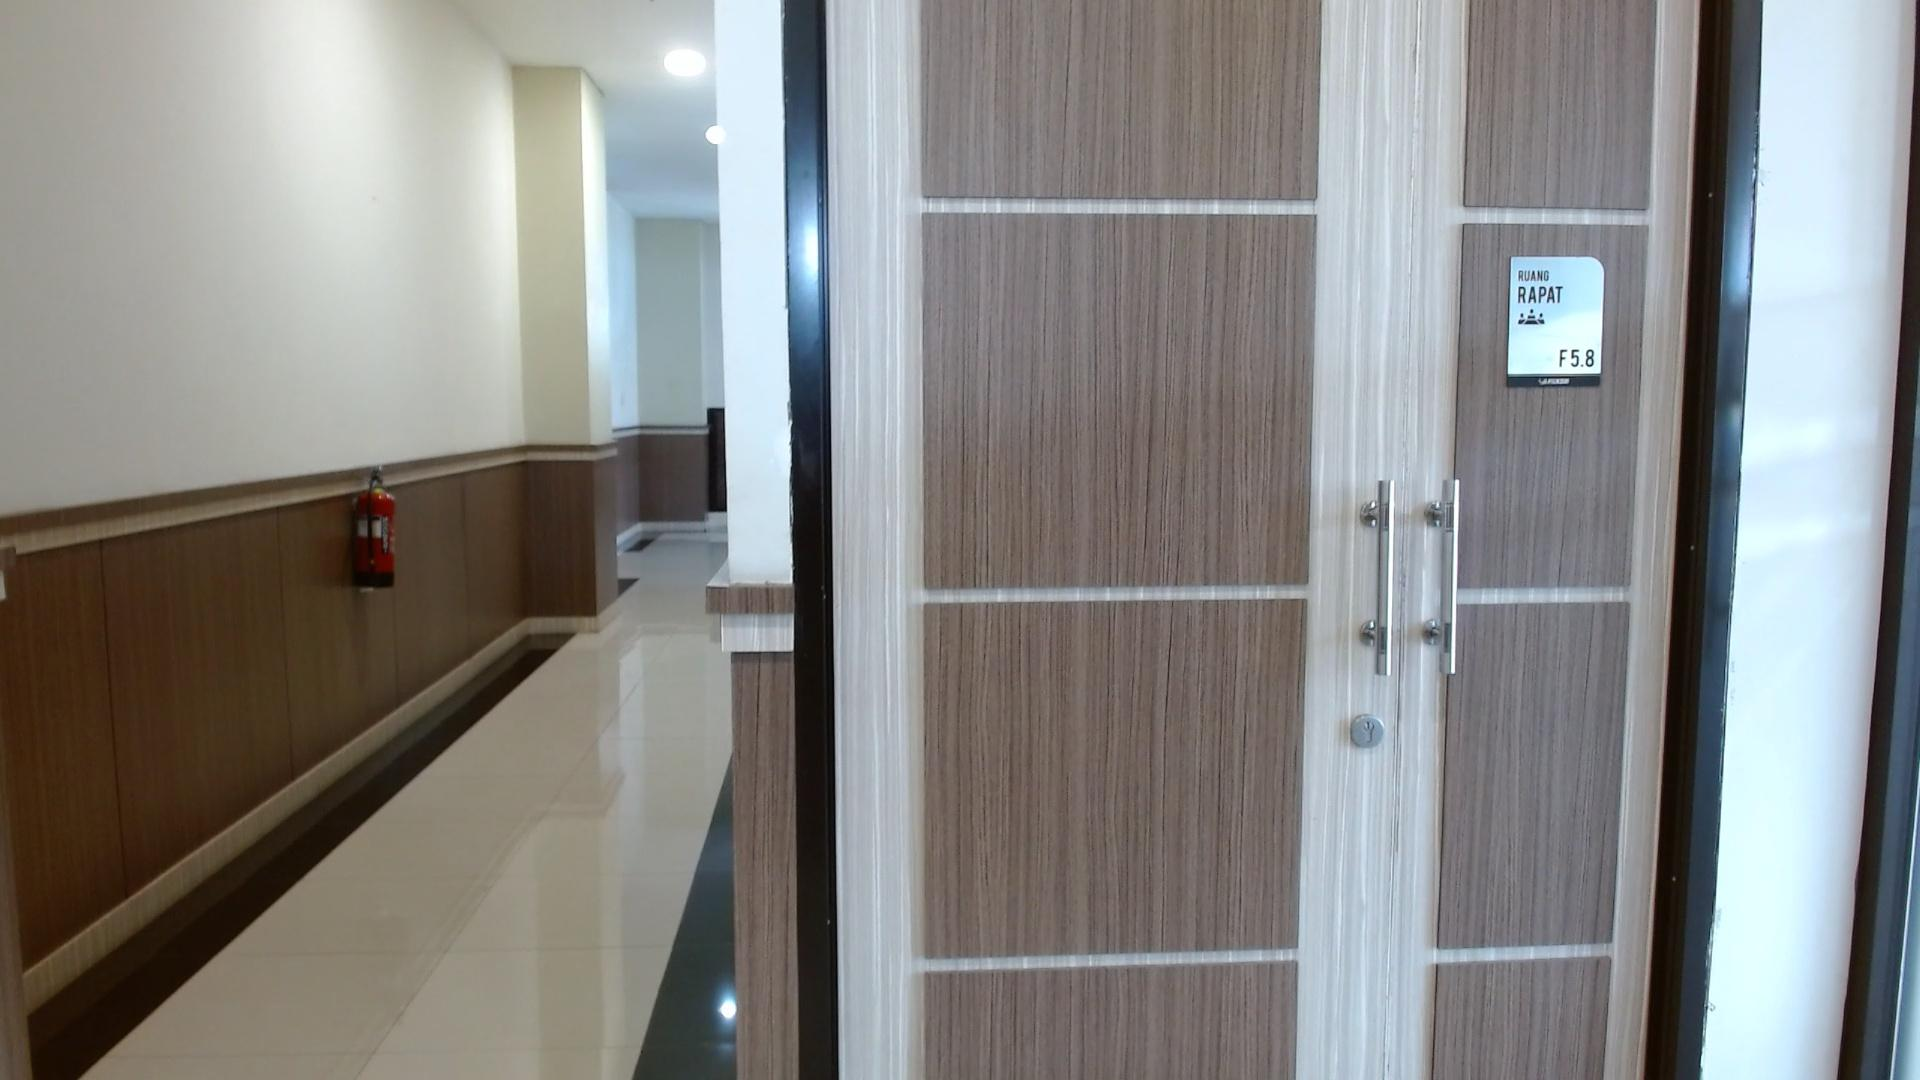plate: (1506, 256, 1606, 388)
